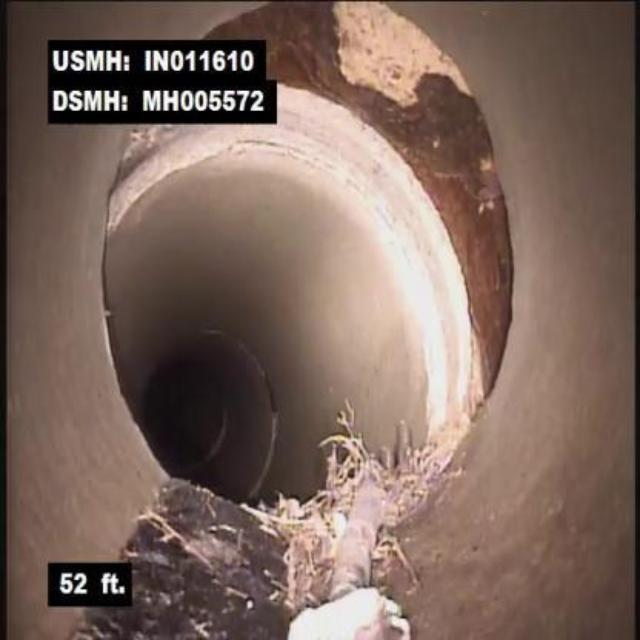Hole: (398, 149, 529, 408), (278, 0, 491, 143)
